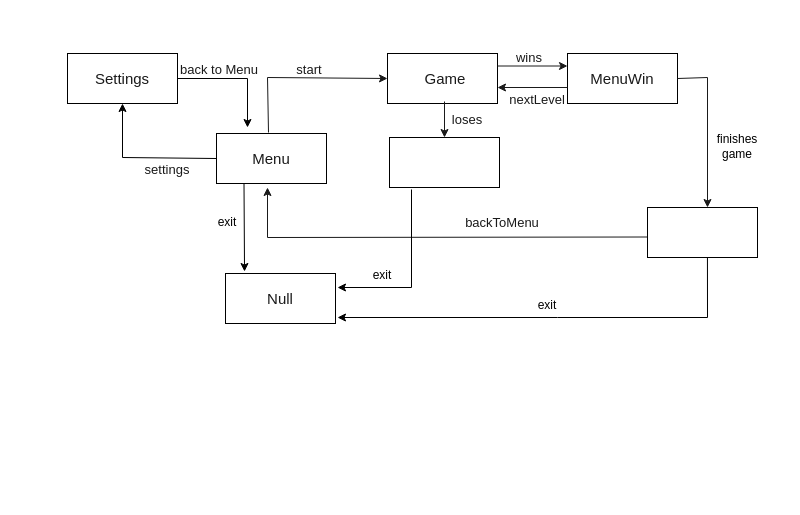
Some shapes in this 800 by 515 pixel diagram are drawn without their labels. Here are the shapes that lost their labels. From the top down, the centre of each, then its label:
At [444,162]: "MenuLose".
At [702,232]: "MenuEndGame".
